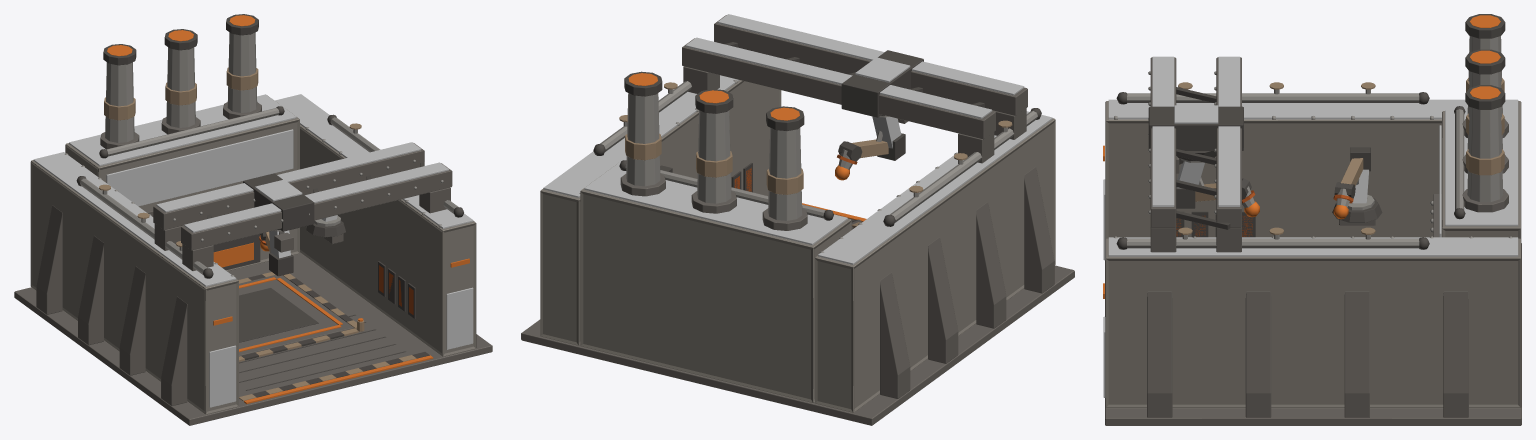
The model's file is crucible_advanced_assembly.glb.
The picture shows the model from 3 angles, left to right: view 1: azimuth 30°, elevation 25°; view 2: azimuth 150°, elevation 25°; view 3: azimuth 270°, elevation 25°; orthographic projection. The views are drawn at different scales.
Parts seen in each view (by area): view 1: Body; view 2: Body; view 3: Body.
Boxes of the visible parts, box(x1,y1,x2,y2) form: Body: box(14, 14, 492, 425); Body: box(521, 14, 1074, 425); Body: box(1103, 14, 1521, 425).
Size of the model in its own units: 22.8 by 16.97 by 22.9.
